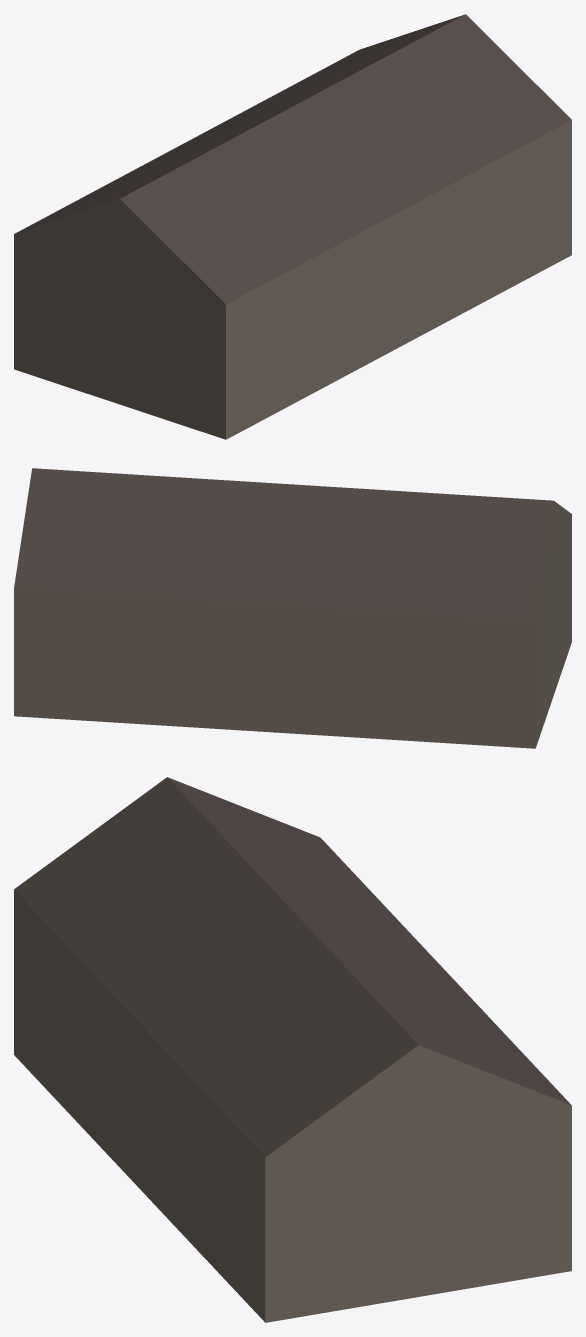
3 views of the same model, one above another, from view 1: azimuth 30°, elevation 25°; view 2: azimuth 150°, elevation 25°; view 3: azimuth 270°, elevation 25° (orthographic). The views are drawn at different scales.
Visible parts, largest first — view 1: HP-w859424213; view 2: HP-w859424213; view 3: HP-w859424213.
Part boxes in pixels (x1=…): HP-w859424213: x1=14, y1=14, x2=571, y2=439; HP-w859424213: x1=14, y1=468, x2=571, y2=748; HP-w859424213: x1=14, y1=777, x2=571, y2=1322.
Size of the model in its own units: 24.86 by 9.13 by 18.33.
